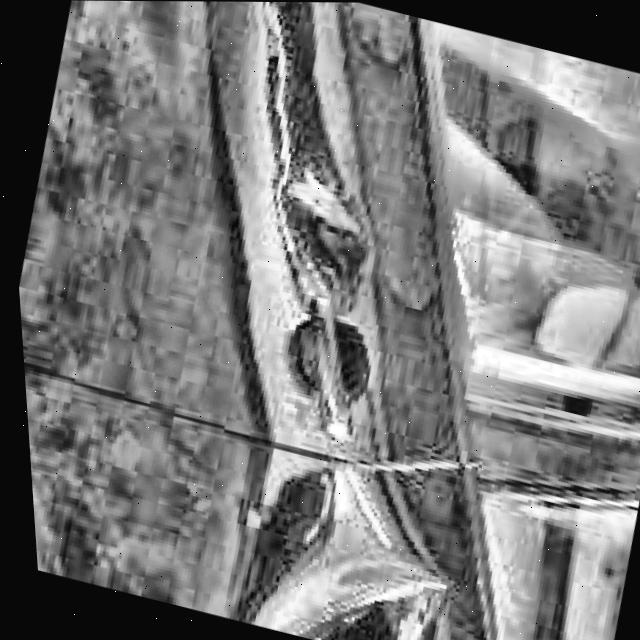door_dent: (190, 48, 422, 315), (190, 465, 453, 640)
door_scratch: (185, 1, 366, 231)
